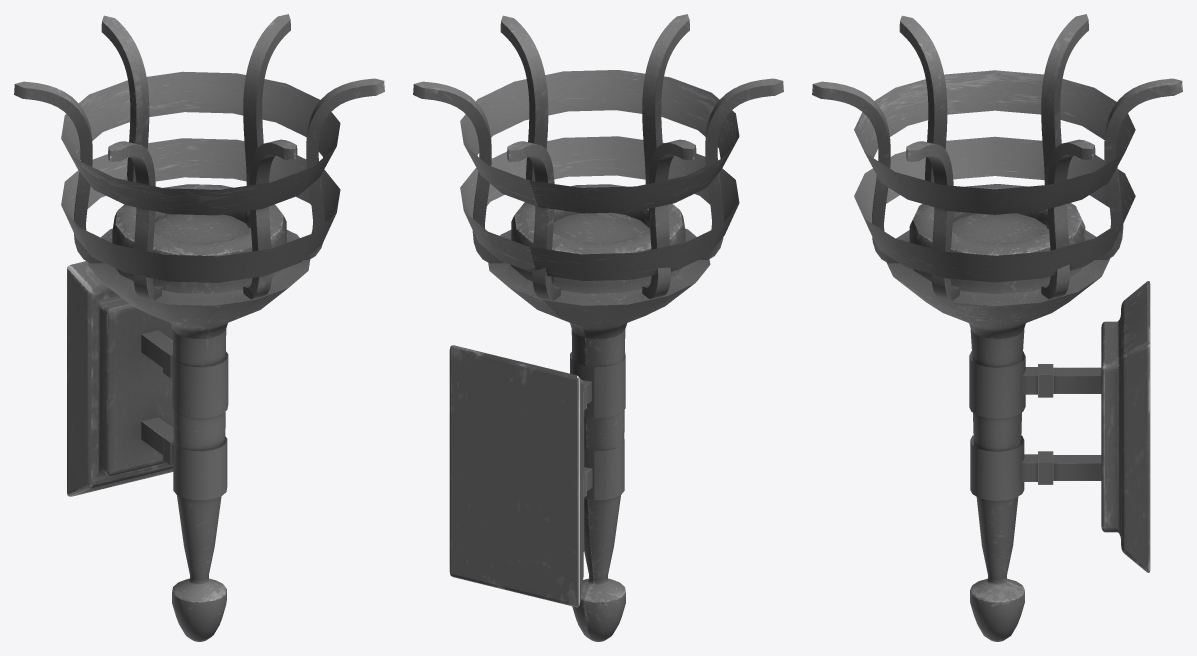
File: Torch.fbx
3 views of the same model, side by side, from view 1: azimuth 30°, elevation 25°; view 2: azimuth 150°, elevation 25°; view 3: azimuth 270°, elevation 25° (orthographic).
Visible parts, largest first — view 1: Plane.005; view 2: Plane.005; view 3: Plane.005.
Part boxes in pixels (x1,y1,x2,y2): Plane.005: (14,14,384,641); Plane.005: (413,14,783,641); Plane.005: (812,14,1182,641).
Size of the model in its own units: 170 by 322 by 194.
Materials: 1 (1 with a texture image).
